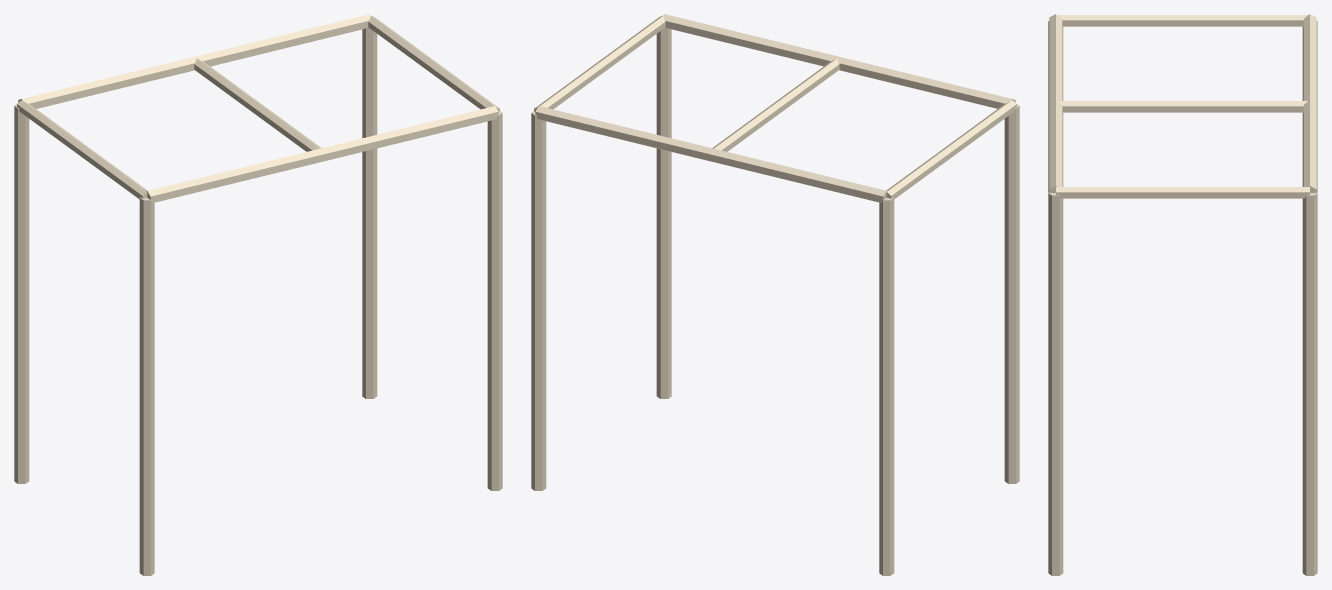
3 renders of one model, left to right at view 1: azimuth 30°, elevation 25°; view 2: azimuth 150°, elevation 25°; view 3: azimuth 270°, elevation 25°, orthographic.
Visible parts, largest first — view 1: Post, Post.002, Post.001, Post.003, Roof rail, Roof rail.001, Roof brace, Roof brace.002, Roof brace.001; view 2: Post.001, Post.003, Post, Post.002, Roof rail.001, Roof rail, Roof brace, Roof brace.002, Roof brace.001; view 3: Post.002, Post.003, Roof brace.002, Roof brace, Roof brace.001, Roof rail, Roof rail.001, Post, Post.001.
Boxes of the visible parts, x1,y1,x2,y2 form: Post: [139, 197, 154, 575]; Post.002: [487, 111, 502, 490]; Post.001: [14, 103, 29, 483]; Post.003: [362, 27, 377, 398]; Roof rail: [146, 106, 498, 202]; Roof rail.001: [18, 14, 370, 108]; Roof brace: [17, 100, 147, 198]; Roof brace.002: [368, 15, 499, 111]; Roof brace.001: [194, 58, 321, 151]; Post.001: [879, 197, 894, 575]; Post.003: [531, 111, 546, 490]; Post: [1004, 103, 1019, 483]; Post.002: [656, 27, 671, 398]; Roof rail.001: [535, 106, 887, 202]; Roof rail: [663, 14, 1015, 108]; Roof brace: [886, 100, 1016, 198]; Roof brace.002: [534, 15, 665, 111]; Roof brace.001: [712, 58, 839, 151]; Post.002: [1048, 192, 1063, 575]; Post.003: [1302, 192, 1317, 575]; Roof brace.002: [1056, 187, 1309, 198]; Roof brace: [1058, 15, 1307, 26]; Roof brace.001: [1058, 101, 1307, 112]; Roof rail: [1049, 14, 1062, 192]; Roof rail.001: [1303, 14, 1316, 192]; Post: [1048, 20, 1063, 192]; Post.001: [1302, 20, 1317, 192].
Bounding box in the file's own units: 1.65 × 1.68 × 1.06.
1 material, 1 textured.
